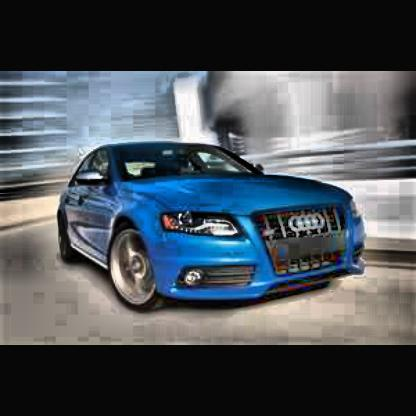Audi S4 Sedan 2012: (52, 146, 362, 313)
